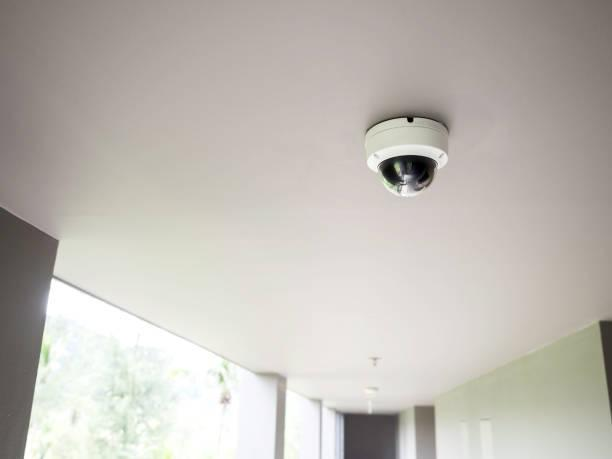CCTV: (366, 117, 449, 197)
